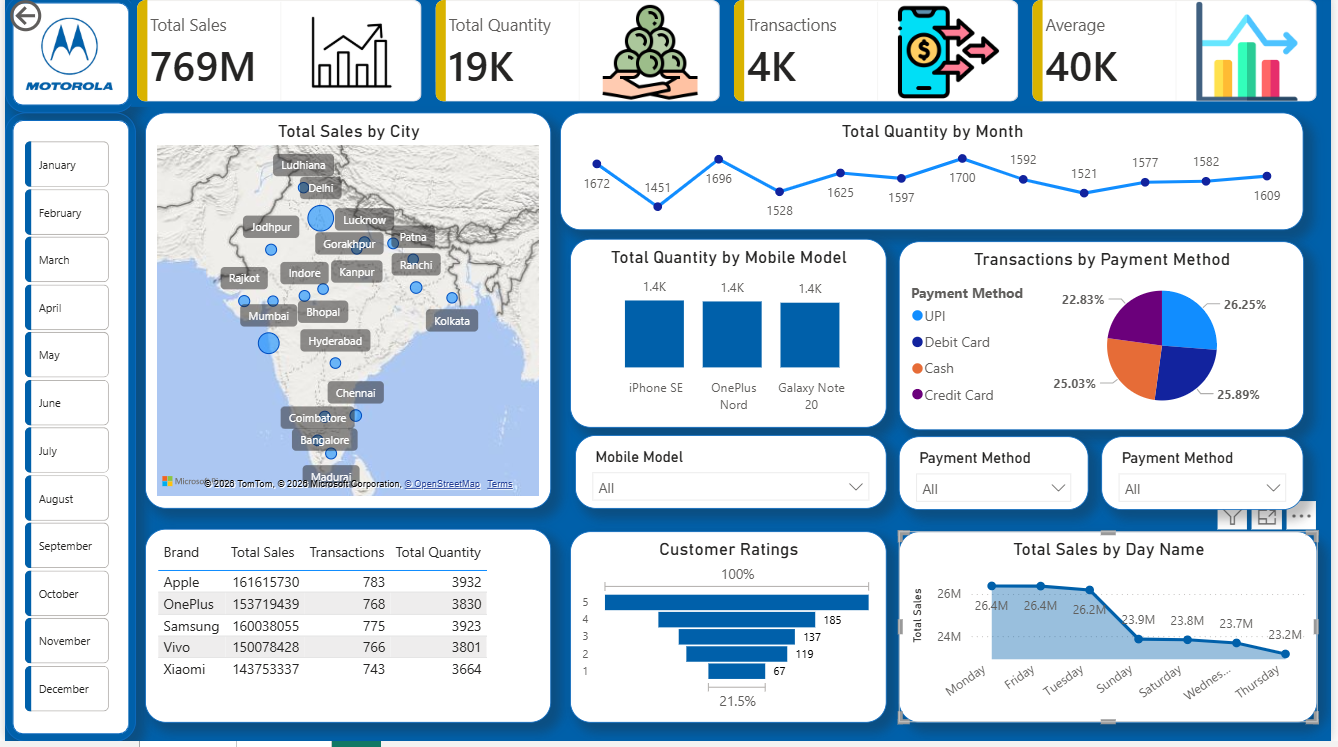

The dashboard page shown, as its layout file describes it:
{"tool":"powerbi","page":{"name":"Page 2","canvas":[1280,720],"ordinal":0},"visuals":[{"type":"shape","box":[0,0,126.7,113.4],"z":0},{"type":"image","box":[14.5,14.5,95.3,84.5],"z":1000},{"type":"shape","box":[0,113.4,126.7,606.8],"z":2000},{"type":"advancedSlicerVisual","fields":{"Values":["Sheet1.Date.Variation.Date Hierarchy.Month"]},"box":[14.5,136.3,91.7,565.8],"z":3000},{"type":"cardVisual","fields":{"Data":["Sheet1.Total Sales","Sheet1.Total Quantity","Sheet1.Transactions","Sheet1.Average"]},"box":[117.5,0,1162.5,113.8],"z":4000},{"type":"map","fields":{"Category":["Sheet1.City"],"Size":["Sheet1.Total Sales"]},"box":[135.1,113.4,392.1,382.4],"z":5000},{"type":"lineChart","fields":{"Y":["Sheet1.Total Quantity"],"Category":["Sheet1.Date.Variation.Date Hierarchy.Month","Sheet1.Date.Variation.Date Hierarchy.Day"]},"box":[535.7,113.4,717.8,113.4],"z":6000},{"type":"columnChart","fields":{"Y":["Sheet1.Total Quantity"],"Category":["Sheet1.Mobile Model"]},"box":[545.3,235.3,305.2,182.2],"z":7000},{"type":"pieChart","fields":{"Category":["Sheet1.Payment Method"],"Y":["Sheet1.Transactions"]},"box":[862.6,237.7,390.9,182.2],"z":8000},{"type":"funnel","title":"Customer Ratings ","fields":{"Category":["Sheet1.Customer Ratings"],"Y":["CountNonNull(Sheet1.Customer Ratings)"]},"box":[545.3,517.6,305.2,184.6],"z":9000},{"type":"areaChart","fields":{"Category":["Sheet1.Day Name"],"Y":["Sheet1.Total Sales"]},"box":[862.6,517.6,404.2,184.6],"z":10000},{"type":"tableEx","fields":{"Values":["Sheet1.Brand","Sheet1.Total Sales","Sheet1.Transactions","Sheet1.Total Quantity"]},"box":[135.1,515.2,392.1,187],"z":11000},{"type":"actionButton","box":[0,0,100,40],"z":12000},{"type":"slicer","fields":{"Values":["Sheet1.Mobile Model"]},"box":[550.1,424.7,300.4,71.2],"z":13000},{"type":"slicer","fields":{"Values":["Sheet1.Payment Method"]},"box":[862.6,425.9,183.4,71.2],"z":14000},{"type":"slicer","fields":{"Values":["Sheet1.Payment Method"]},"box":[1058,425.9,195.4,71.2],"z":15000}]}

Visuals, with their boxes in screenshot pixels (x1, y1, x2, y2), scaled from the page's 1280x720 canvas onto the 1338x747 screenshot:
shape: (0, 0, 132, 118)
image: (15, 15, 115, 103)
shape: (0, 118, 132, 746)
advancedSlicerVisual - Sheet1.Date.Variation.Date Hierarchy.Month: (15, 141, 111, 728)
cardVisual - Sheet1.Total Sales x Sheet1.Total Quantity: (123, 0, 1337, 118)
map - Sheet1.City x Sheet1.Total Sales: (141, 118, 551, 514)
lineChart - Sheet1.Total Quantity x Sheet1.Date.Variation.Date Hierarchy.Month: (560, 118, 1310, 235)
columnChart - Sheet1.Total Quantity x Sheet1.Mobile Model: (570, 244, 889, 433)
pieChart - Sheet1.Payment Method x Sheet1.Transactions: (902, 247, 1310, 436)
"Customer Ratings " funnel: (570, 537, 889, 729)
areaChart - Sheet1.Day Name x Sheet1.Total Sales: (902, 537, 1324, 729)
tableEx - Sheet1.Brand x Sheet1.Total Sales: (141, 535, 551, 729)
actionButton: (0, 0, 105, 42)
slicer - Sheet1.Mobile Model: (575, 441, 889, 514)
slicer - Sheet1.Payment Method: (902, 442, 1093, 516)
slicer - Sheet1.Payment Method: (1106, 442, 1310, 516)
